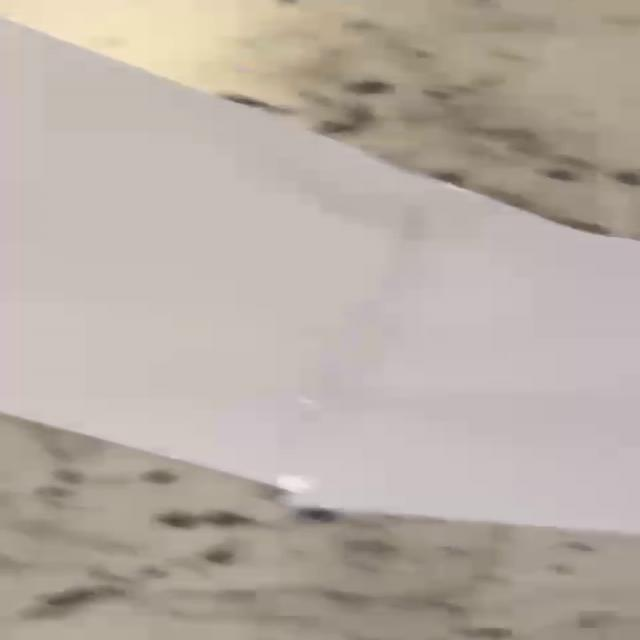road: (0, 19, 640, 538)
